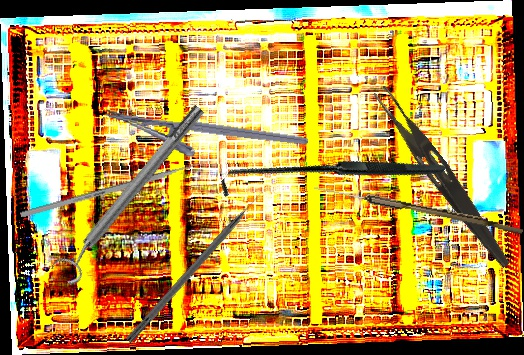Dressing Forceps: (366, 84, 520, 271)
Fixation Ring: (47, 98, 215, 288)
Hook Surgical: (215, 62, 447, 294), (124, 186, 270, 345)
Needle Holder: (100, 107, 309, 174)
Pusher: (19, 156, 217, 219)
Surgical Spoon: (313, 183, 524, 235)
